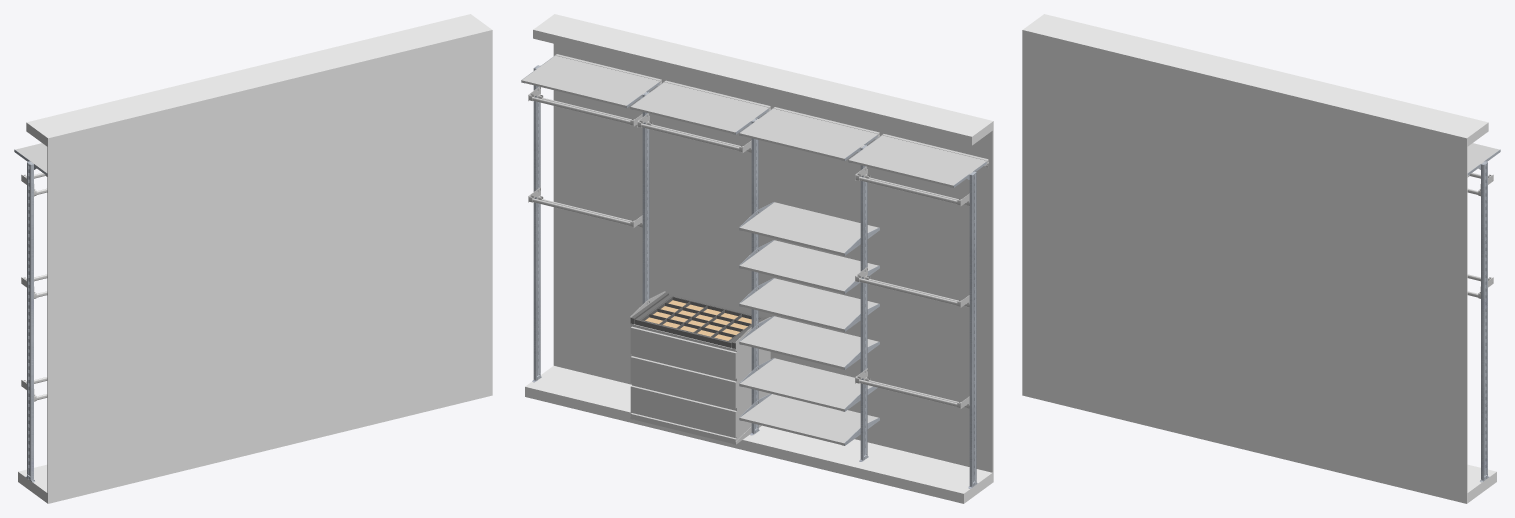
3 views of the same model, side by side, from view 1: azimuth 30°, elevation 25°; view 2: azimuth 150°, elevation 25°; view 3: azimuth 330°, elevation 25° (orthographic).
Visible parts, largest first — view 1: Geom3D (×2), Geom3D_Geom3D_组件#16_Defintion#13_Geom3D_组件#16; view 2: Geom3D (×8), Geom3D_Geom3D_组件#4_柜子 copy 002_Defintion#4_Geom3D_组件#4_柜子 co, Geom3D_Geom3D_组件#16_Defintion#13_Geom3D_组件#16, Geom3D_Geom3D_组件#16_Defintion#14_Geom3D_组件#16, Geom3D_Geom3D_组件#16_Defintion31_Geom3D_组件#16, Geom3D_Geom3D_组件#16_Defintion#15_Geom3D_组件#16, Geom3D_Geom3D_组件#15_木层板（中间） copy 001_Defintion32_Geom3D_组件#1, Geom3D_Geom3D_组件#15_木层板（中间） copy 001_Defintion21_Geom3D_组件#1, Geom3D_Geom3D_组件#15_木层板（中间） copy 001_Defintion27_Geom3D_组件#1, Geom3D_Geom3D_组件#15_木层板（中间） copy 001_Defintion#1_Geom3D_组件#1, Geom3D_Geom3D_组件#15_木层板（中间） copy 001_Defintion23_Geom3D_组件#1, Geom3D_Geom3D_组件#15_木层板（中间） copy 001_Defintion25_Geom3D_组件#1 (+6 smaller); view 3: Geom3D (×2), Geom3D_Geom3D_组件#16_Defintion31_Geom3D_组件#16.
Part boxes in pixels (x1,y1,x2,y2): Geom3D (×2): [18, 14, 492, 503]; Geom3D_Geom3D_组件#16_Defintion#13_Geom3D_组件#16: [15, 143, 47, 176]; Geom3D (×8): [525, 14, 993, 503]; Geom3D_Geom3D_组件#4_柜子 copy 002_Defintion#4_Geom3D_组件#4_柜子 co: [630, 324, 770, 444]; Geom3D_Geom3D_组件#16_Defintion#13_Geom3D_组件#16: [848, 134, 988, 187]; Geom3D_Geom3D_组件#16_Defintion#14_Geom3D_组件#16: [739, 107, 879, 160]; Geom3D_Geom3D_组件#16_Defintion31_Geom3D_组件#16: [521, 54, 661, 107]; Geom3D_Geom3D_组件#16_Defintion#15_Geom3D_组件#16: [630, 80, 770, 134]; Geom3D_Geom3D_组件#15_木层板（中间） copy 001_Defintion32_Geom3D_组件#1: [739, 278, 878, 331]; Geom3D_Geom3D_组件#15_木层板（中间） copy 001_Defintion21_Geom3D_组件#1: [739, 202, 878, 255]; Geom3D_Geom3D_组件#15_木层板（中间） copy 001_Defintion27_Geom3D_组件#1: [739, 316, 878, 369]; Geom3D_Geom3D_组件#15_木层板（中间） copy 001_Defintion#1_Geom3D_组件#1: [739, 240, 878, 293]; Geom3D_Geom3D_组件#15_木层板（中间） copy 001_Defintion23_Geom3D_组件#1: [739, 358, 872, 411]; Geom3D_Geom3D_组件#15_木层板（中间） copy 001_Defintion25_Geom3D_组件#1: [739, 394, 878, 445]; Geom3D (×2): [1022, 14, 1496, 503]; Geom3D_Geom3D_组件#16_Defintion31_Geom3D_组件#16: [1467, 143, 1499, 177].
Bounding box in the file's own units: 3.63 × 2.85 × 0.5216.
4 materials, 1 textured.
